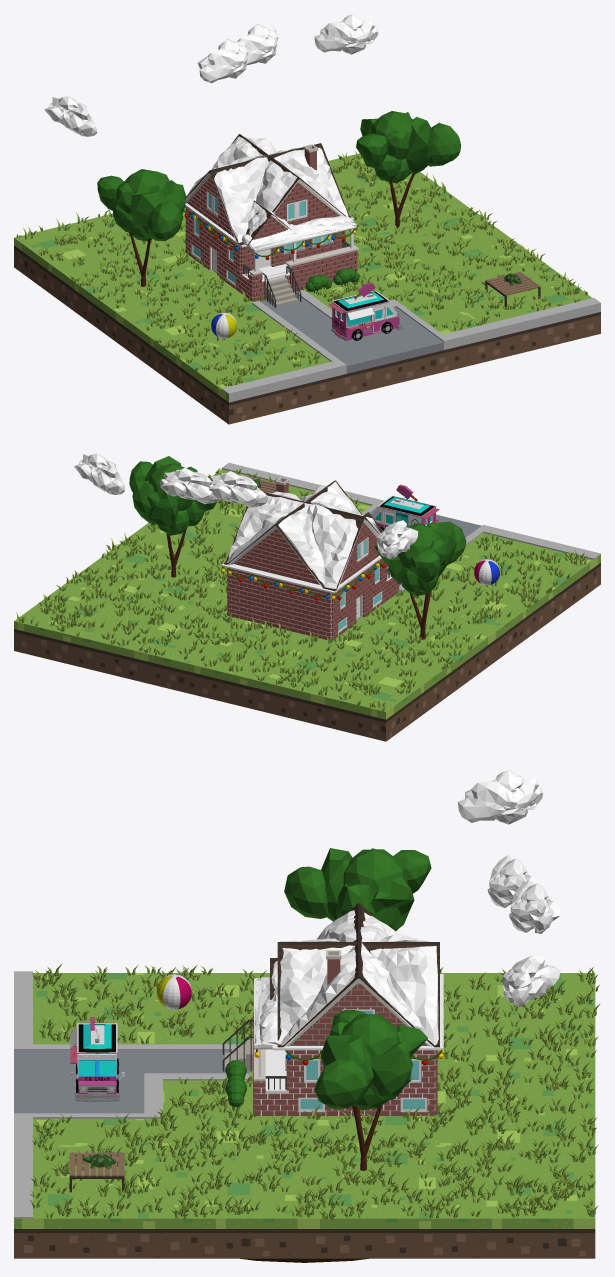
The picture shows the model from 3 angles, top to bottom: view 1: azimuth 30°, elevation 25°; view 2: azimuth 150°, elevation 25°; view 3: azimuth 270°, elevation 25°; orthographic projection. The views are drawn at different scales.
Visible parts, largest first — view 1: Cube.006, Cube.1419, Circle.012_Grass_0.192, Cube.007, tree, tree.001, VEHICLES_ICE_CREAM_TRUCK, Cube.009, OBJRANDOM_BEACHBALL; view 2: Cube.006, Cube.1419, Circle.012_Grass_0.192, Cube.007, tree.001, tree, VEHICLES_ICE_CREAM_TRUCK, OBJRANDOM_BEACHBALL; view 3: Cube.006, Circle.012_Grass_0.192, Cube.1419, tree, Cube.007, tree.001, VEHICLES_ICE_CREAM_TRUCK, Cube.009, OBJRANDOM_BEACHBALL.
Boxes of the visible parts, bbox=[...] form: Cube.006: bbox=[14, 153, 600, 424]; Cube.1419: bbox=[184, 134, 358, 307]; Circle.012_Grass_0.192: bbox=[16, 151, 587, 386]; Cube.007: bbox=[44, 14, 378, 136]; tree: bbox=[356, 111, 460, 228]; tree.001: bbox=[97, 169, 186, 286]; VEHICLES_ICE_CREAM_TRUCK: bbox=[328, 282, 402, 340]; Cube.009: bbox=[485, 272, 540, 306]; OBJRANDOM_BEACHBALL: bbox=[211, 312, 236, 338]; Cube.006: bbox=[14, 463, 600, 741]; Cube.1419: bbox=[221, 477, 399, 640]; Circle.012_Grass_0.192: bbox=[16, 468, 587, 711]; Cube.007: bbox=[74, 453, 418, 559]; tree.001: bbox=[374, 521, 466, 639]; tree: bbox=[129, 456, 216, 577]; VEHICLES_ICE_CREAM_TRUCK: bbox=[372, 484, 439, 530]; OBJRANDOM_BEACHBALL: bbox=[474, 559, 499, 585]; Cube.006: bbox=[14, 971, 595, 1258]; Circle.012_Grass_0.192: bbox=[29, 963, 600, 1219]; Cube.1419: bbox=[222, 903, 443, 1115]; tree: bbox=[314, 1010, 427, 1170]; Cube.007: bbox=[457, 770, 560, 1006]; tree.001: bbox=[284, 848, 431, 931]; VEHICLES_ICE_CREAM_TRUCK: bbox=[70, 1017, 124, 1101]; Cube.009: bbox=[69, 1152, 124, 1192]; OBJRANDOM_BEACHBALL: bbox=[156, 974, 191, 1009].
Bounding box in the file's own units: 4071 × 2242 × 4040.
54 materials, 3 textured.
